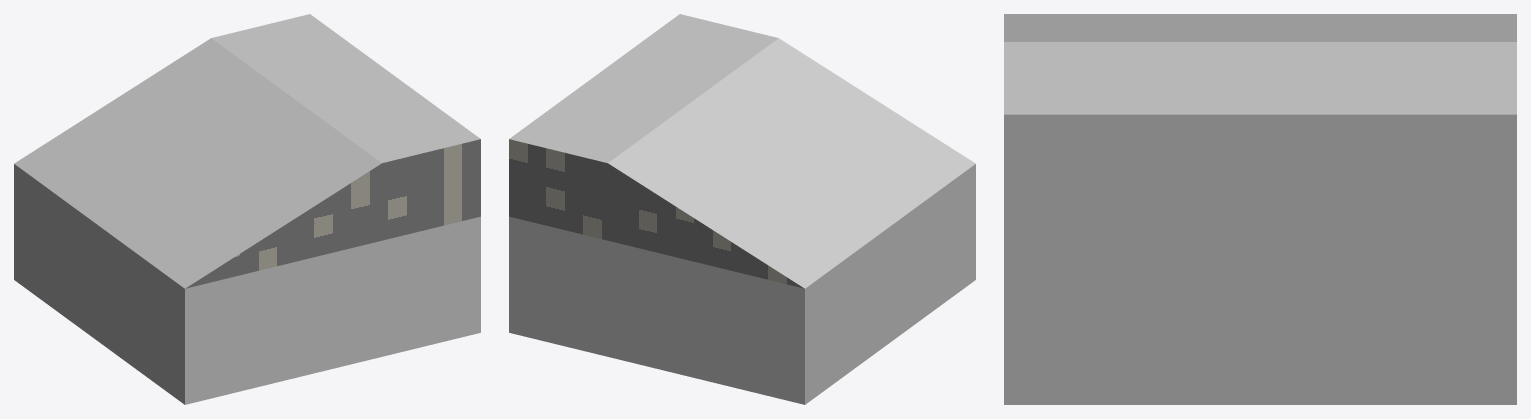
File: slope37_5_shave2_base6.obj
The picture shows the model from 3 angles, left to right: view 1: azimuth 30°, elevation 25°; view 2: azimuth 150°, elevation 25°; view 3: azimuth 270°, elevation 25°; orthographic projection. The views are drawn at different scales.
Size of the model in its own units: 1 by 0.625 by 1.
